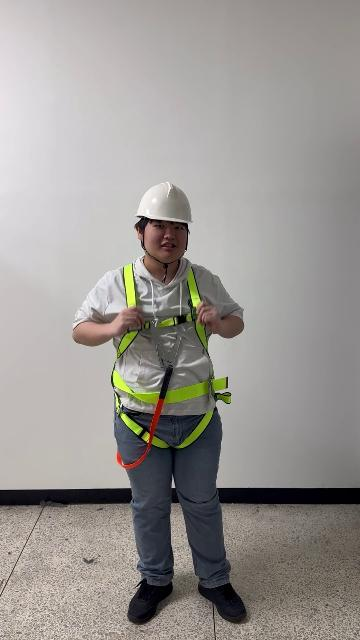helmet_worn: (134, 181, 193, 224)
shoe_not_worn: (127, 578, 173, 624), (198, 581, 246, 622)
vest_worn: (109, 263, 230, 449)
